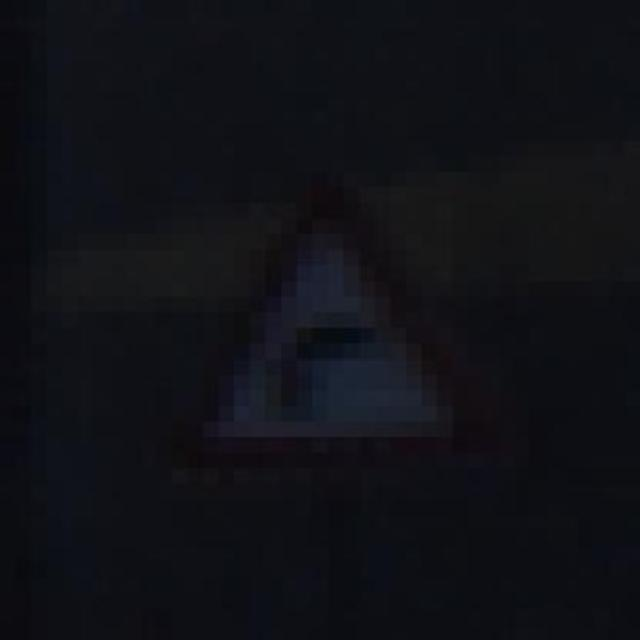Dangerous Rright Curve Ahead: (124, 140, 516, 500)
